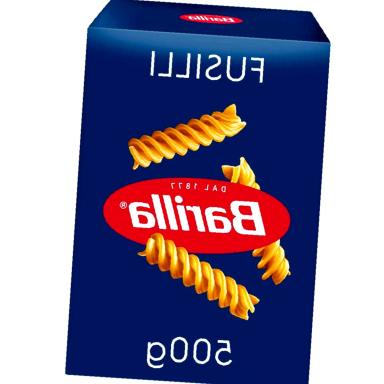pasta package: (66, 0, 329, 383)
